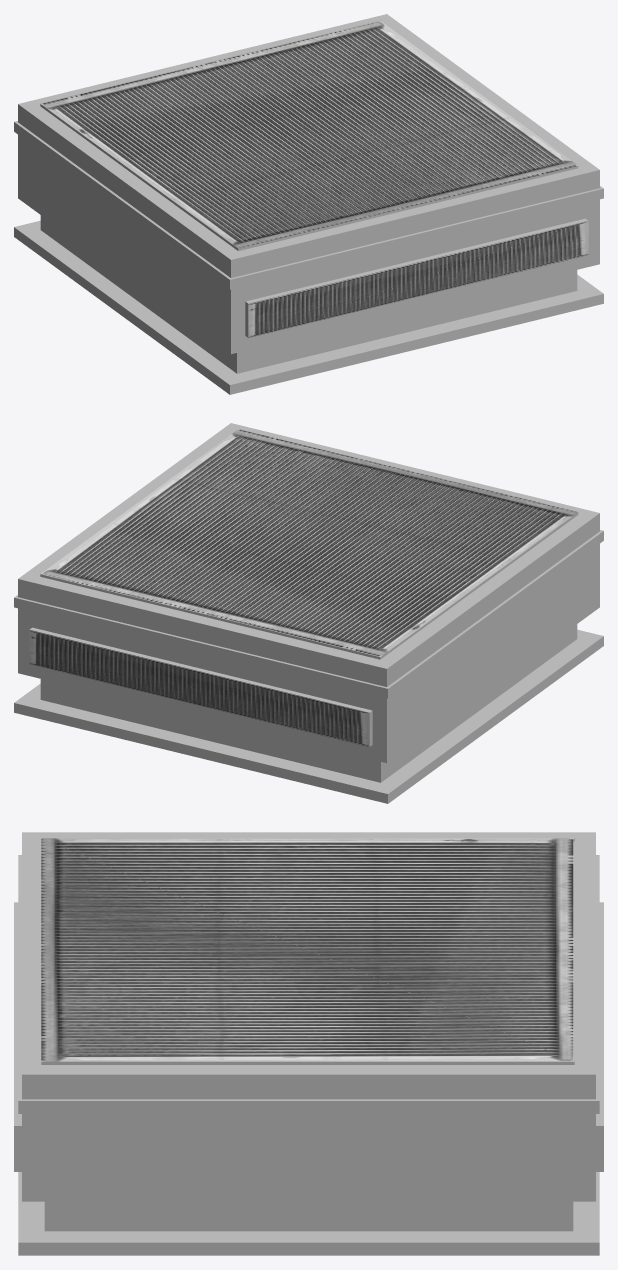
The model's file is rd2_vent.FBX.
3 views of the same model, one above another, from view 1: azimuth 30°, elevation 25°; view 2: azimuth 150°, elevation 25°; view 3: azimuth 270°, elevation 25° (orthographic). The views are drawn at different scales.
Visible parts, largest first — view 1: rd1_vent001; view 2: rd1_vent001; view 3: rd1_vent001.
Boxes of the visible parts, <box> form: rd1_vent001: <box>14,14,603,394</box>; rd1_vent001: <box>14,423,603,803</box>; rd1_vent001: <box>14,832,603,1255</box>.
Bounding box in the file's own units: 10.14 × 10.28 × 3.52.
